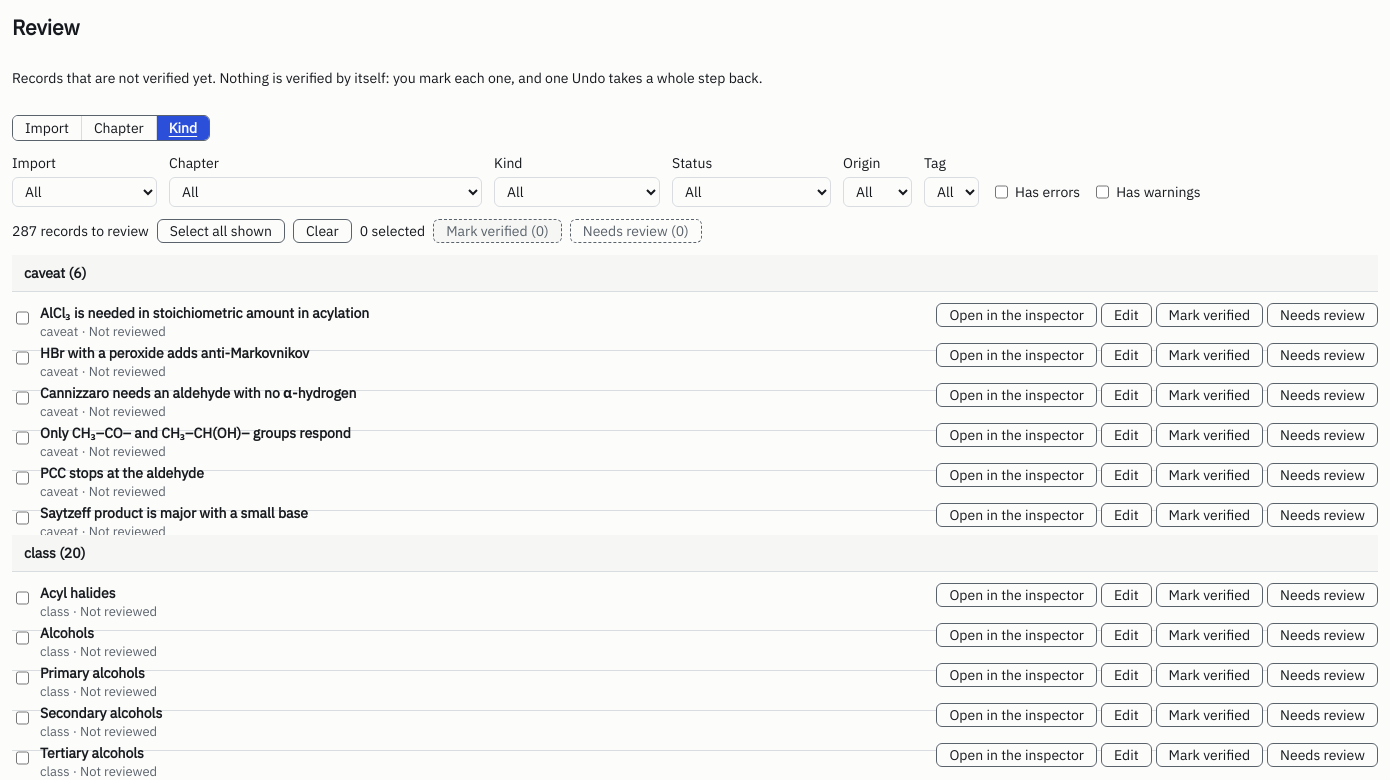
Test: filters › Clear all filters is only offered while a filter is set
Expected: the button "Clear all filters" is not shown
Select "reaction (27)" in the dropdown labelled "Kind" at (577, 192), box [494,177,660,207]
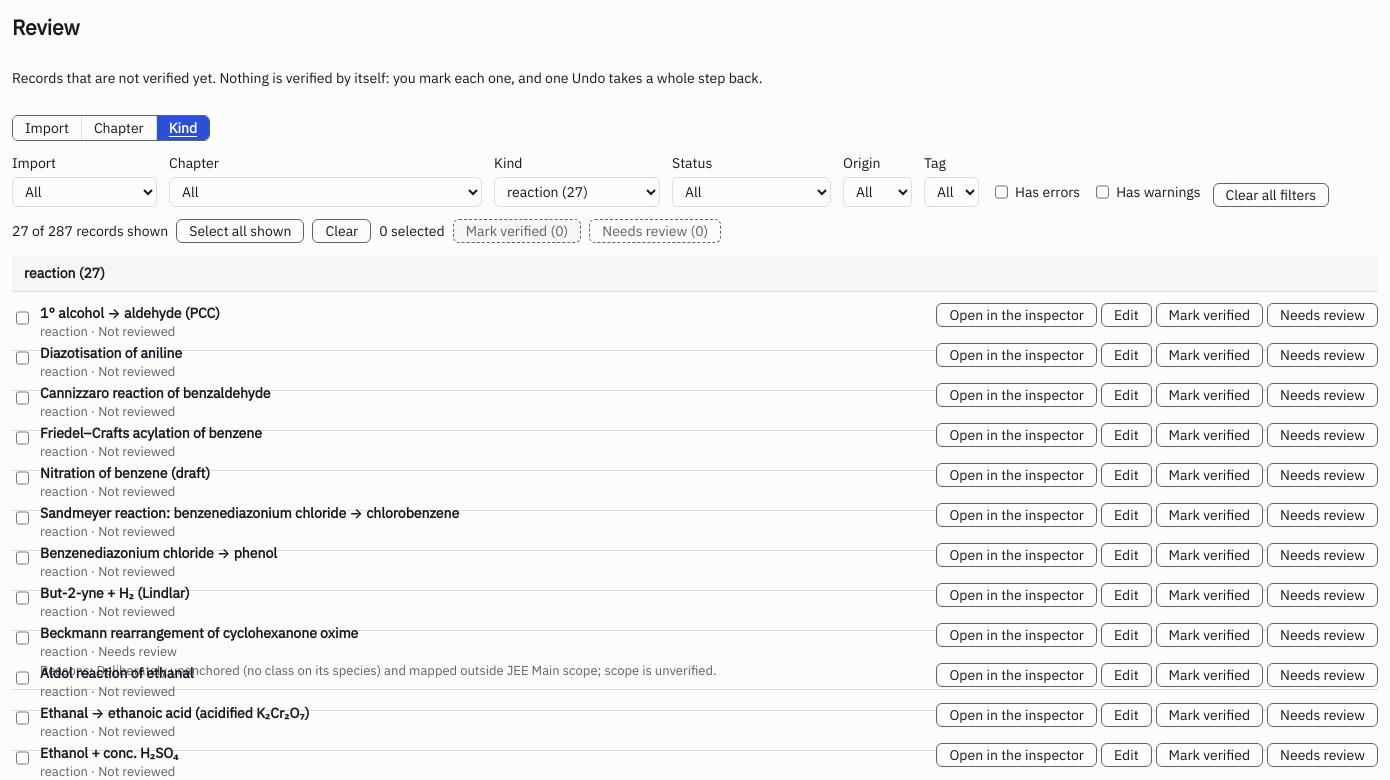
Result: the button "Clear all filters" is shown at [1212,183,1329,207]
